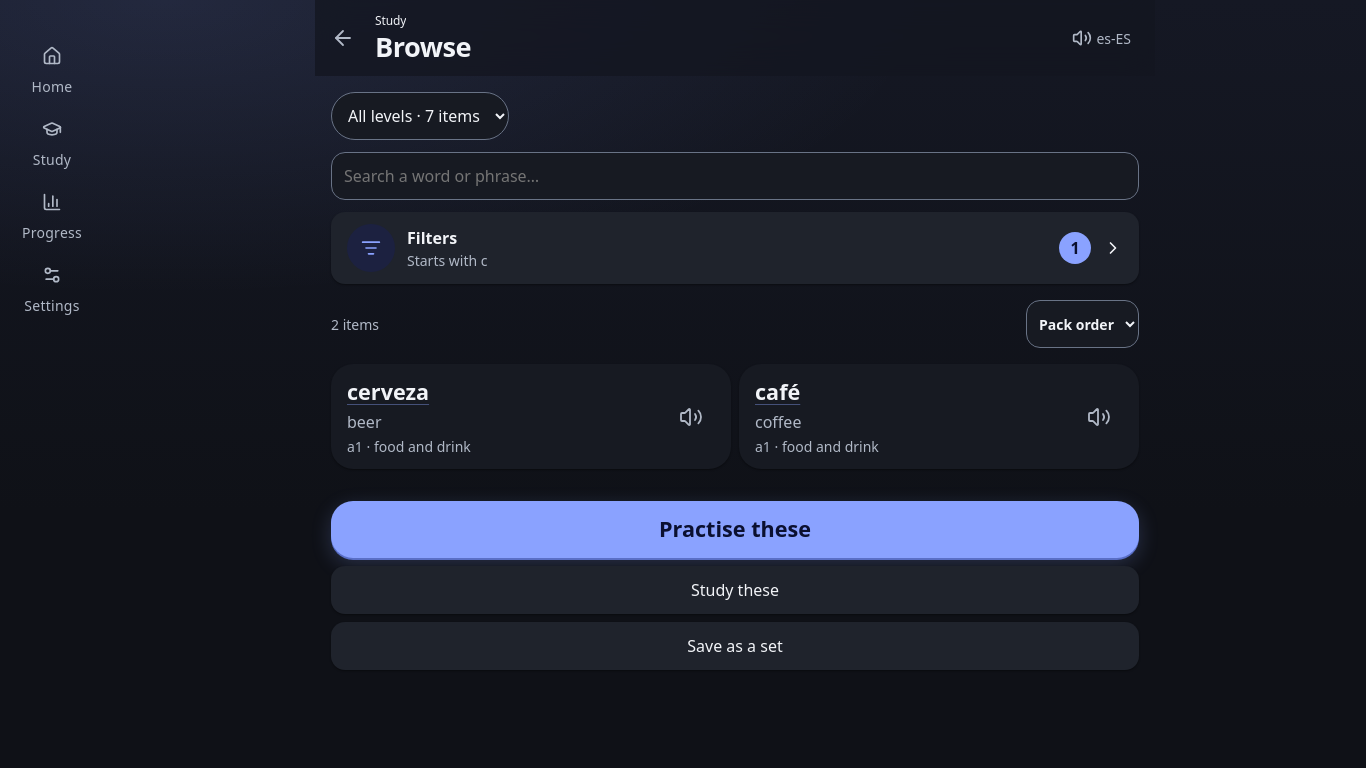
the letter index › also provides a visible reset for the current letter
Click the button with aria-label "Filters:" at {"x": 371, "y": 248}, box top-left (331, 212), bottom-right (1139, 284)
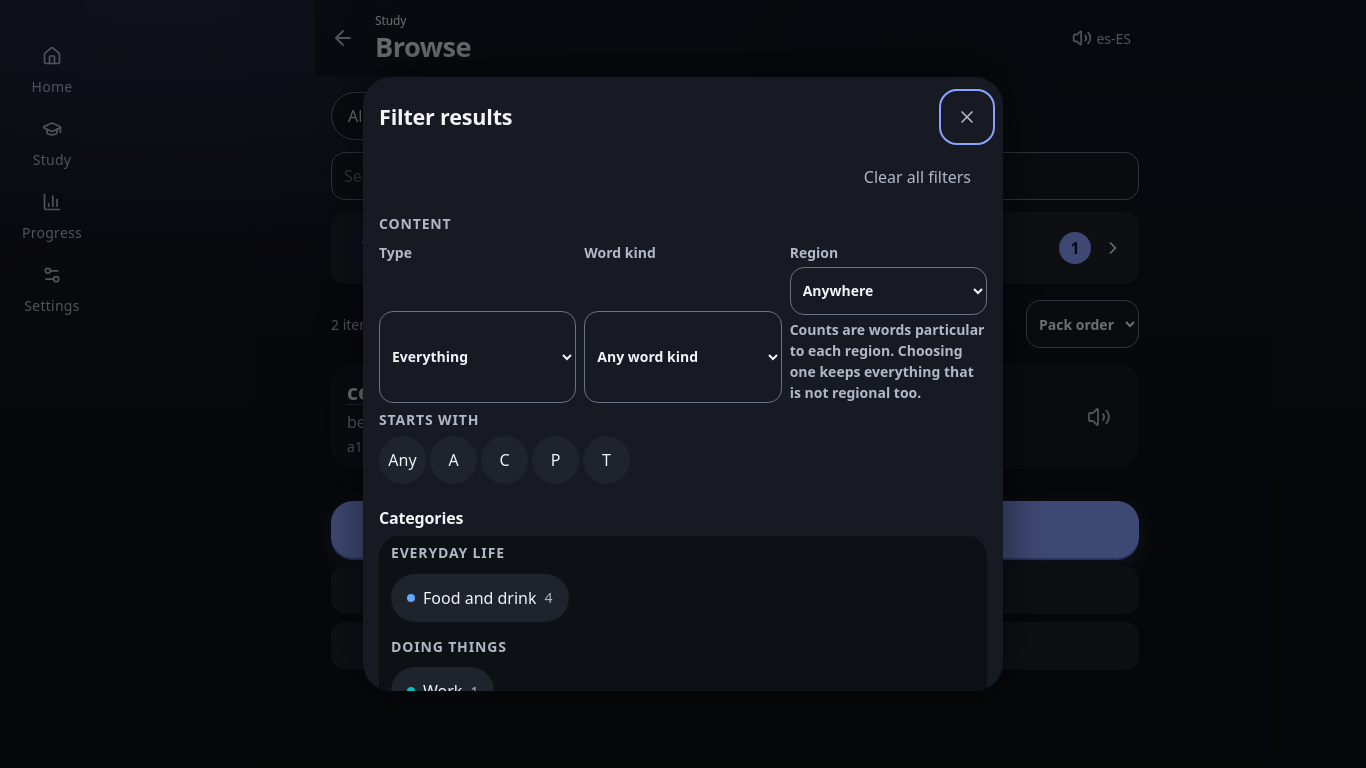
Click the button with aria-label "Any starting letter" at {"x": 402, "y": 460}, box top-left (379, 436), bottom-right (426, 484)
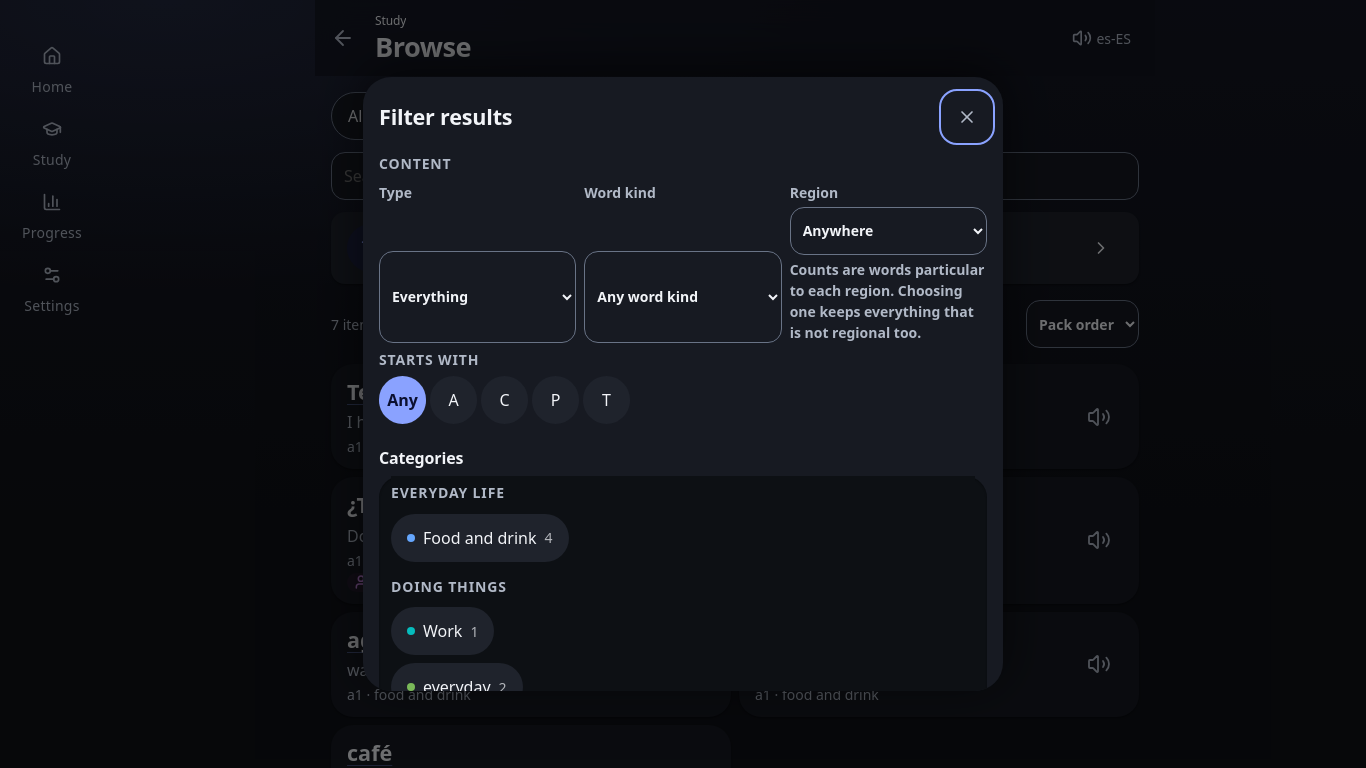
Expected: the message reads "7 items", top-left (331, 314), bottom-right (379, 334)
